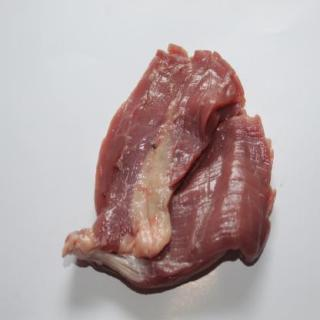Daging Sapi: (61, 44, 277, 296)
